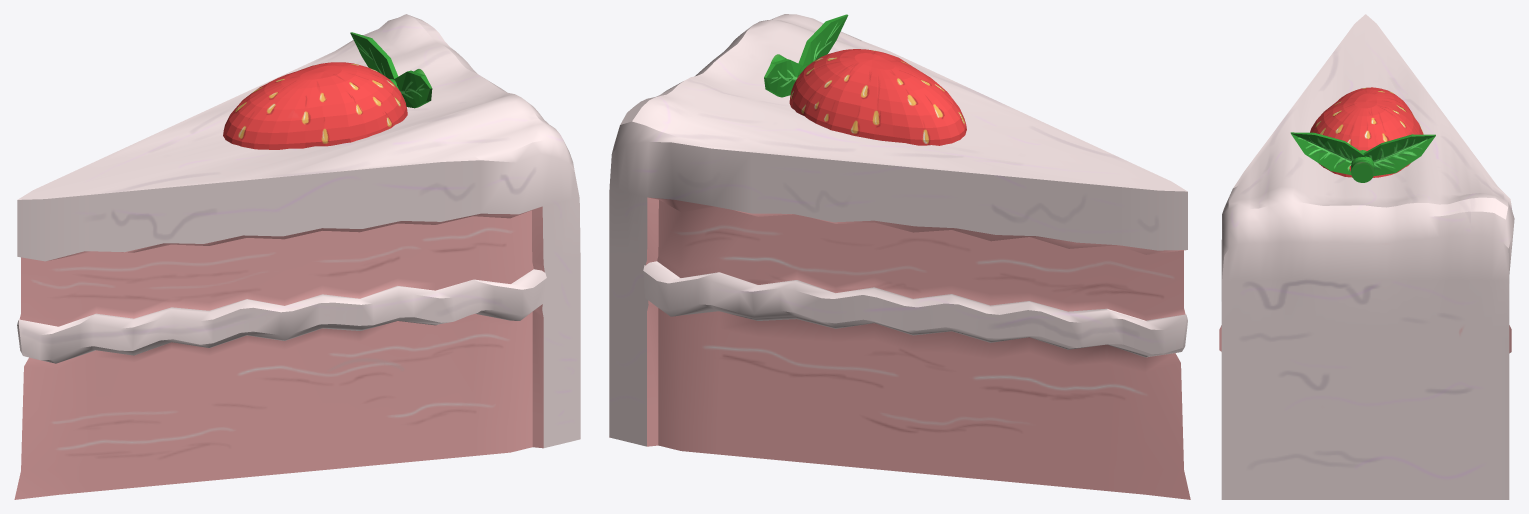
Rendered from taartprojectile.fbx.
3 views of the same model, side by side, from view 1: azimuth 30°, elevation 25°; view 2: azimuth 150°, elevation 25°; view 3: azimuth 270°, elevation 25° (orthographic). The views are drawn at different scales.
Visible parts, largest first — view 1: Cube, Sphere, Cube.002, Cube.001; view 2: Cube, Sphere, Cube.001, Cube.002; view 3: Cube, Sphere, Cube.001, Cube.002, Cylinder.
Boxes of the visible parts, box(x1,y1,x2,y2) form: Cube: box(14, 14, 580, 499); Sphere: box(223, 62, 407, 149); Cube.002: box(350, 32, 398, 79); Cube.001: box(394, 70, 432, 108); Cube: box(609, 14, 1190, 499); Sphere: box(789, 49, 966, 145); Cube.001: box(798, 14, 848, 66); Cube.002: box(764, 59, 802, 97); Cube: box(1219, 14, 1514, 499); Sphere: box(1310, 87, 1423, 177); Cube.001: box(1290, 132, 1365, 175); Cube.002: box(1360, 134, 1435, 175); Cylinder: box(1351, 150, 1374, 182).
Size of the model in its own units: 745 by 516 by 431.
